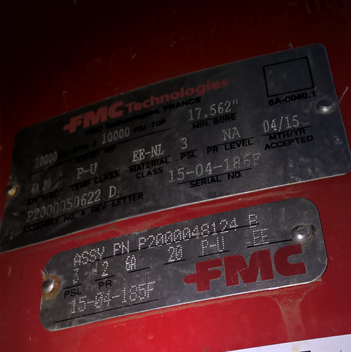character: (126, 280, 139, 305), (145, 278, 157, 304), (76, 293, 88, 316), (166, 242, 178, 264), (226, 215, 239, 235), (214, 236, 229, 253), (111, 285, 122, 308), (120, 237, 132, 258), (259, 227, 272, 246), (102, 289, 114, 309), (202, 161, 214, 181), (287, 113, 301, 130), (86, 294, 97, 315), (94, 290, 104, 313), (174, 244, 186, 263), (166, 168, 178, 187), (111, 241, 124, 258), (146, 233, 157, 253), (176, 164, 187, 184), (194, 162, 205, 182), (252, 151, 264, 169), (161, 230, 175, 245), (210, 218, 220, 239), (245, 212, 259, 227), (251, 228, 262, 247), (215, 99, 226, 118), (136, 236, 149, 252), (217, 218, 230, 234), (178, 136, 191, 152), (96, 244, 106, 264), (199, 237, 209, 257), (31, 204, 41, 224), (136, 282, 147, 300), (240, 153, 253, 168), (183, 165, 195, 181), (214, 159, 224, 178), (231, 152, 241, 171), (181, 227, 192, 244), (198, 223, 211, 237), (86, 163, 100, 176), (105, 185, 118, 199), (173, 226, 182, 246), (71, 267, 80, 287), (119, 287, 128, 307), (129, 148, 141, 163), (221, 127, 233, 142), (194, 104, 204, 122), (222, 99, 233, 115), (123, 254, 132, 273), (148, 144, 158, 161), (282, 115, 292, 132), (260, 119, 271, 134), (206, 102, 217, 117), (129, 255, 138, 273), (69, 297, 78, 315), (88, 249, 98, 265), (99, 260, 109, 276), (232, 122, 240, 142), (185, 107, 195, 123), (154, 234, 166, 247), (91, 190, 104, 202), (23, 210, 34, 224), (191, 224, 200, 241), (82, 164, 91, 181), (45, 202, 54, 219), (81, 248, 89, 267), (75, 166, 85, 181), (276, 116, 285, 132), (72, 252, 82, 266), (155, 142, 165, 156), (142, 147, 152, 160), (78, 194, 88, 207), (98, 132, 108, 145), (209, 237, 217, 253), (269, 119, 277, 135), (59, 198, 67, 214), (139, 145, 146, 163), (73, 194, 80, 212), (86, 189, 92, 209), (66, 198, 75, 211), (224, 157, 231, 172), (38, 205, 46, 218), (52, 203, 60, 216), (122, 127, 132, 137), (119, 126, 125, 141), (107, 130, 112, 146), (111, 130, 119, 139)
